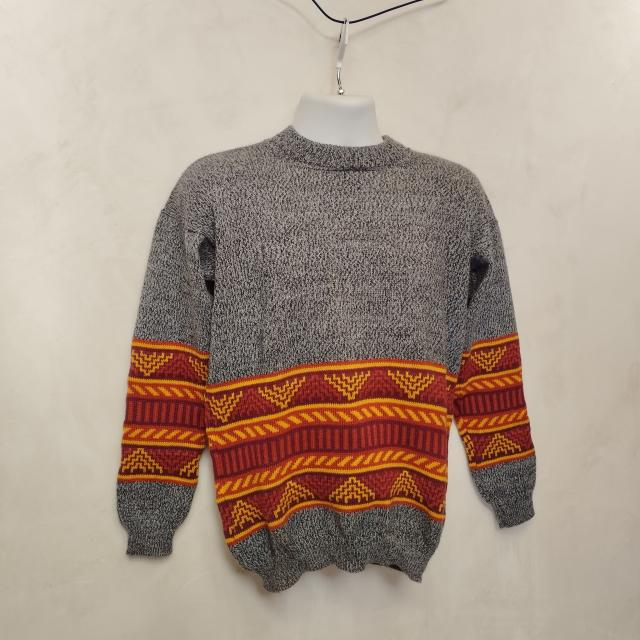Chompa: (116, 102, 537, 592)
